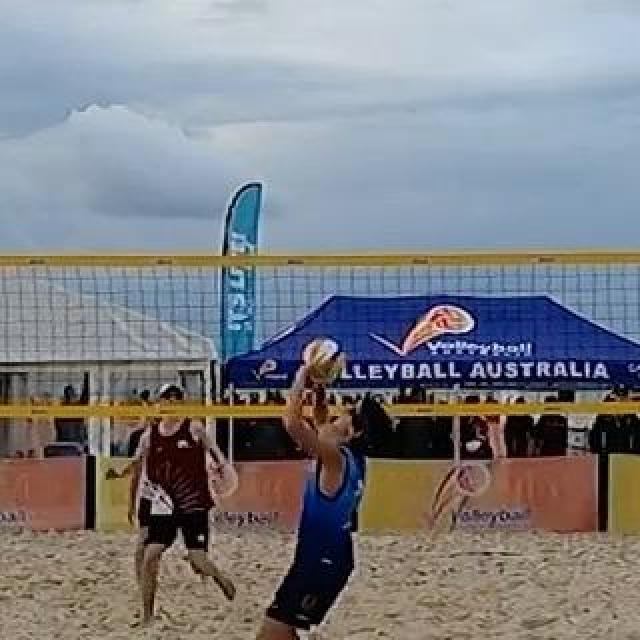volleyball: (302, 336, 346, 384)
